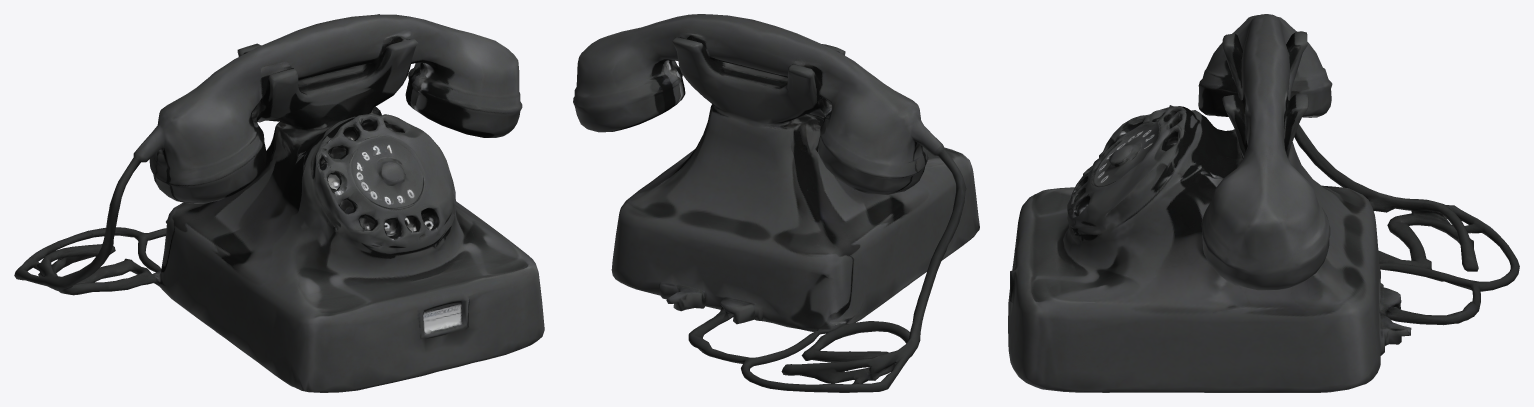
The model's file is Meshy_AI_telefono_de_mesa_0323190242_texture.glb.
3 views of the same model, side by side, from view 1: azimuth 30°, elevation 25°; view 2: azimuth 150°, elevation 25°; view 3: azimuth 270°, elevation 25° (orthographic). The views are drawn at different scales.
Bounding box in the file's own units: 2 × 1.25 × 1.99.
1 material, 1 textured.
